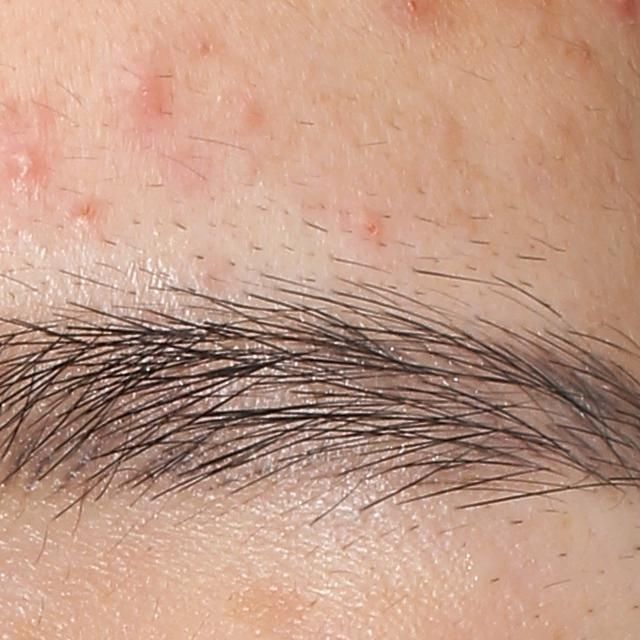melasma: (223, 577, 316, 640)
papule: (121, 65, 165, 112)
pustule: (6, 147, 45, 179)
